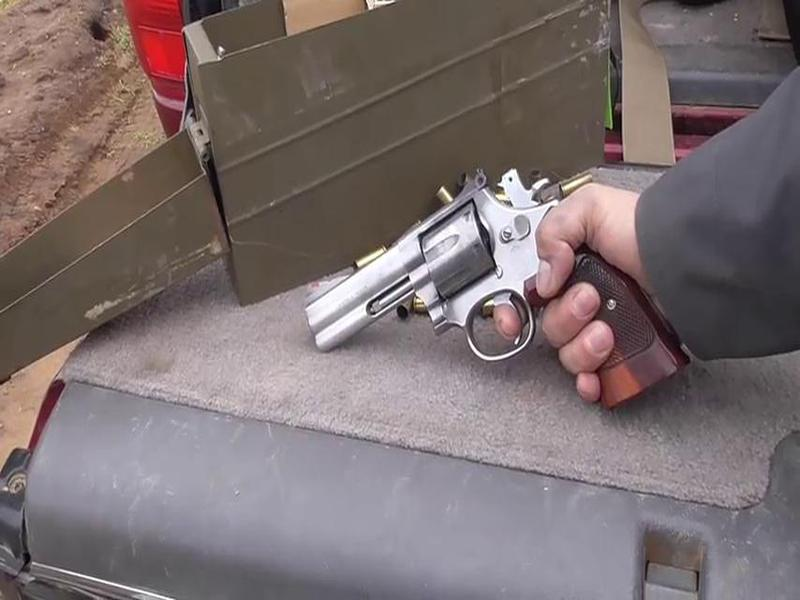Revolver: (266, 149, 688, 461)
